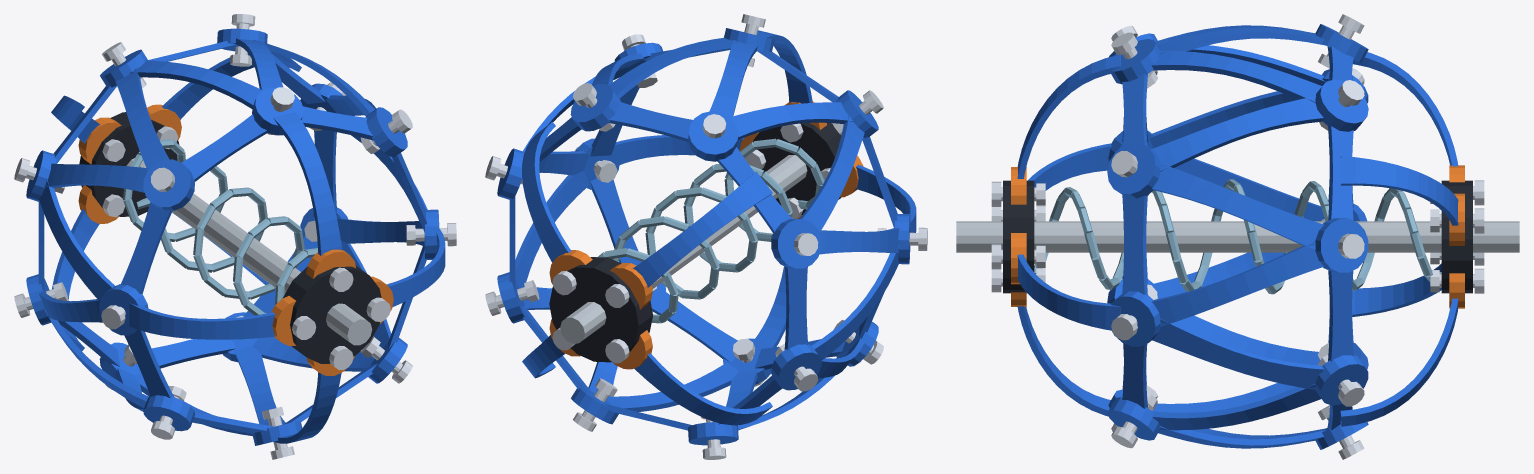
The model's file is unit_cell_truss_d56.obj.
3 views of the same model, side by side, from view 1: azimuth 30°, elevation 25°; view 2: azimuth 150°, elevation 25°; view 3: azimuth 270°, elevation 25° (orthographic). The views are drawn at different scales.
Visible parts, largest first — view 1: links_truss, pins, collars, spring, shaft, links_equatorial; view 2: links_truss, pins, collars, spring, shaft, links_equatorial; view 3: links_truss, shaft, pins, spring, collars, links_equatorial.
Boxes of the visible parts, left/top/right/bottom form: links_truss: left=26, top=28, right=445, bottom=445; pins: left=14, top=14, right=456, bottom=459; collars: left=79, top=112, right=381, bottom=363; spring: left=123, top=139, right=317, bottom=315; shaft: left=126, top=158, right=372, bottom=345; links_equatorial: left=78, top=104, right=393, bottom=375; links_truss: left=497, top=28, right=916, bottom=445; pins: left=485, top=14, right=927, bottom=459; collars: left=549, top=123, right=841, bottom=362; spring: left=597, top=138, right=824, bottom=323; shaft: left=560, top=155, right=807, bottom=343; links_equatorial: left=549, top=101, right=863, bottom=369; links_truss: left=1017, top=24, right=1458, bottom=449; shaft: left=956, top=221, right=1519, bottom=252; pins: left=991, top=14, right=1484, bottom=459; spring: left=1034, top=179, right=1441, bottom=294; collars: left=1003, top=180, right=1472, bottom=293; links_equatorial: left=1011, top=165, right=1464, bottom=308.
Bounding box in the file's own units: 57.06 × 57.06 × 72.
